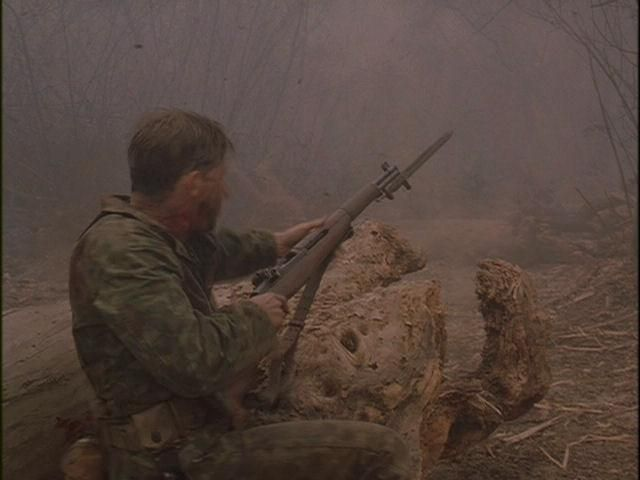gun: (235, 123, 478, 385)
uniform: (43, 187, 229, 476)
